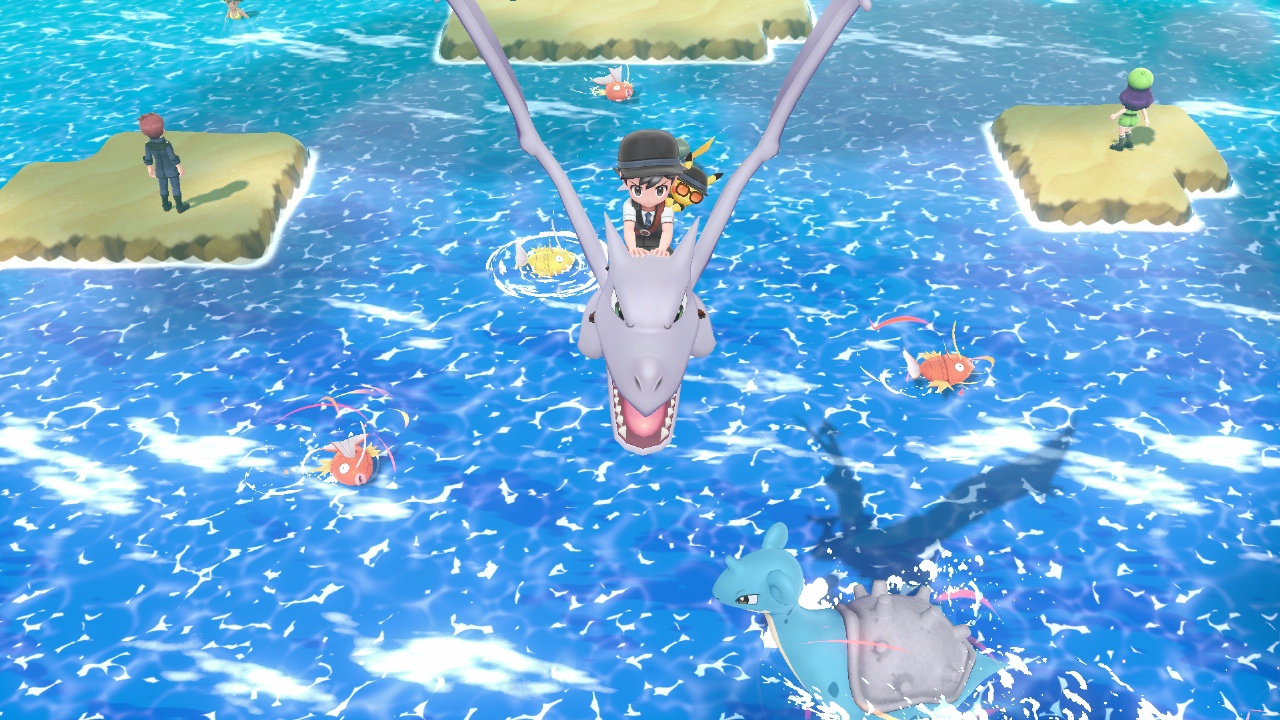Golden: (514, 241, 581, 279)
Red: (903, 347, 975, 393), (323, 436, 382, 489), (591, 67, 637, 102)
